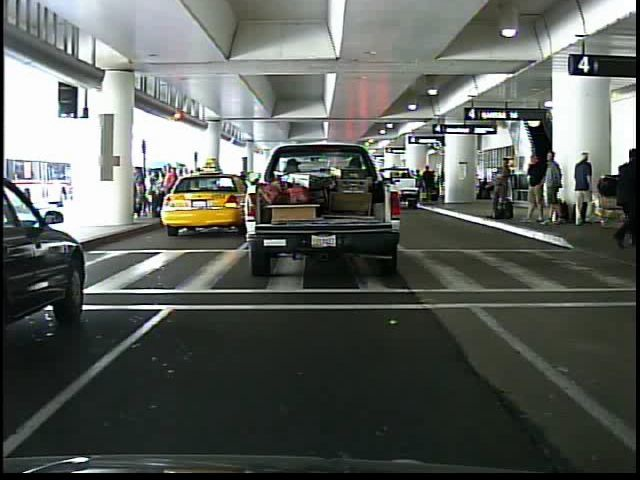person: (606, 146, 640, 249), (569, 150, 593, 229)
